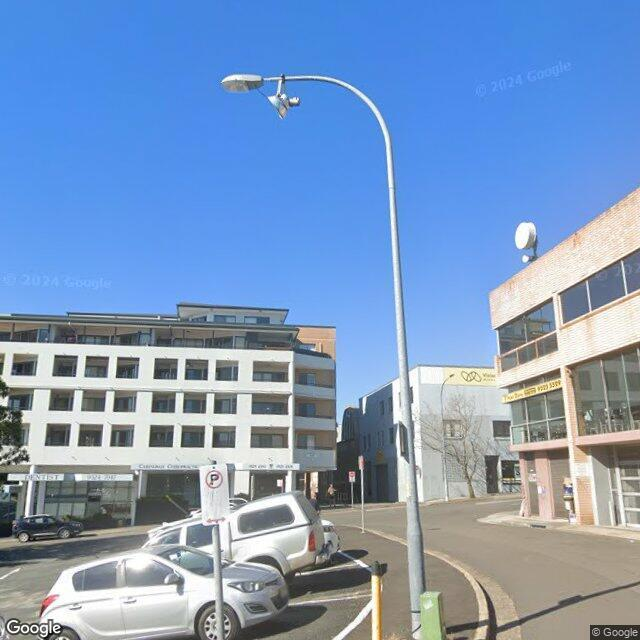steel-pole: (388, 188, 426, 640), (212, 524, 225, 640)
streetlight: (222, 74, 395, 189)
